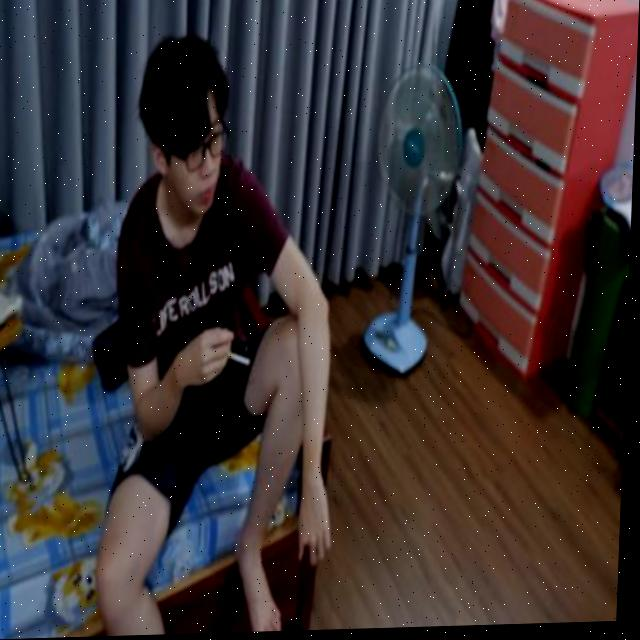cigarette: (229, 350, 256, 368)
